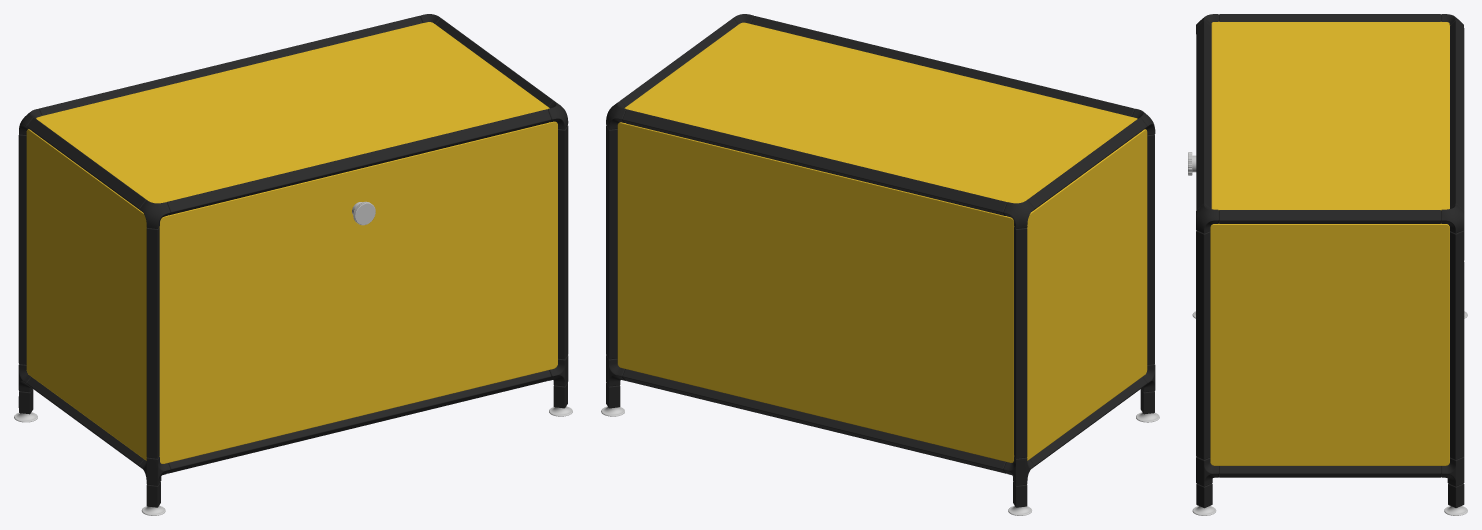
The picture shows the model from 3 angles, left to right: view 1: azimuth 30°, elevation 25°; view 2: azimuth 150°, elevation 25°; view 3: azimuth 270°, elevation 25°; orthographic projection.
Parts seen in each view (by area): view 1: 729x374x375; view 2: 729x374x375; view 3: 729x374x375.
Part boxes in pixels (left/top/right/bottom): 729x374x375: left=14, top=14, right=572, bottom=515; 729x374x375: left=601, top=14, right=1159, bottom=515; 729x374x375: left=1188, top=14, right=1467, bottom=515.
Bounding box in the file's own units: 0.8189 × 0.5593 × 0.4707.
